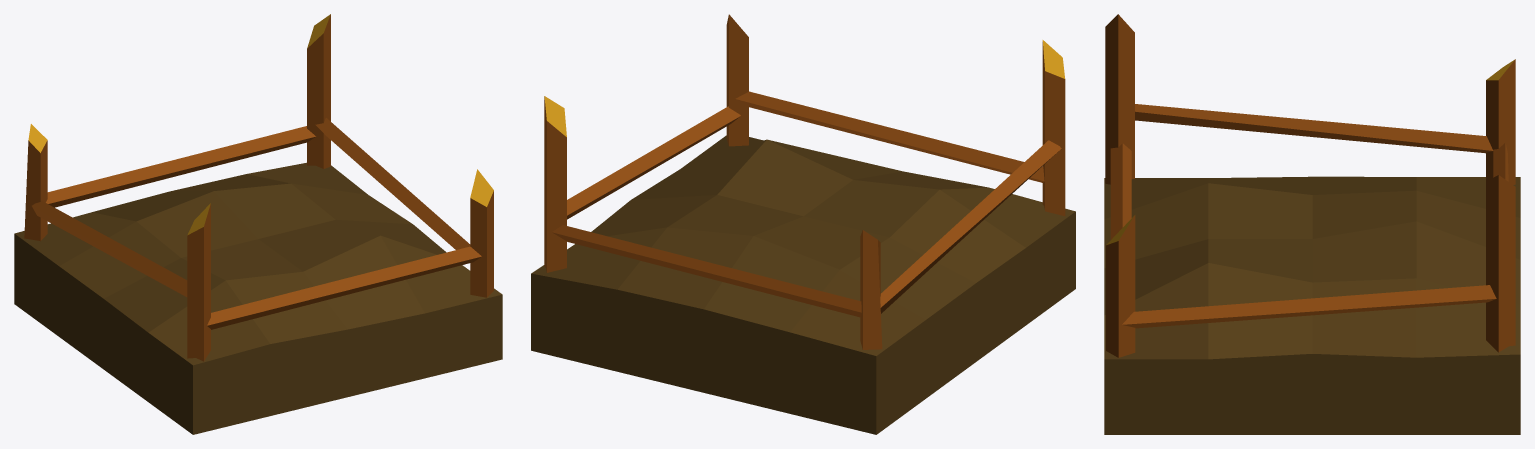
Rendered from GardenBed.fbx.
The picture shows the model from 3 angles, left to right: view 1: azimuth 30°, elevation 25°; view 2: azimuth 150°, elevation 25°; view 3: azimuth 270°, elevation 25°; orthographic projection. The views are drawn at different scales.
Visible parts, largest first — view 1: GardenBed, GardenBed1; view 2: GardenBed, GardenBed1; view 3: GardenBed, GardenBed1.
Part boxes in pixels (box(x1,y1,x2,y2)): GardenBed: box(14, 162, 502, 434); GardenBed1: box(24, 14, 493, 361); GardenBed: box(531, 135, 1075, 434); GardenBed1: box(544, 14, 1065, 349); GardenBed: box(1104, 176, 1520, 434); GardenBed1: box(1105, 14, 1515, 357).
Size of the model in its own units: 600 by 412 by 600.
